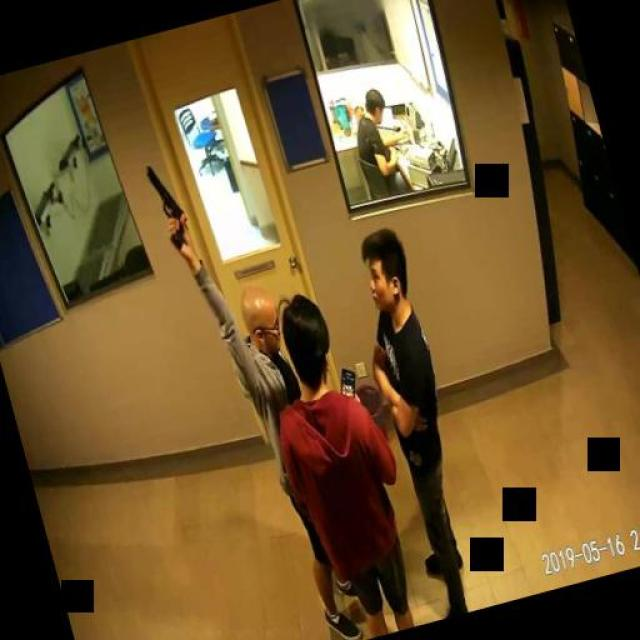gun: (144, 156, 191, 250)
